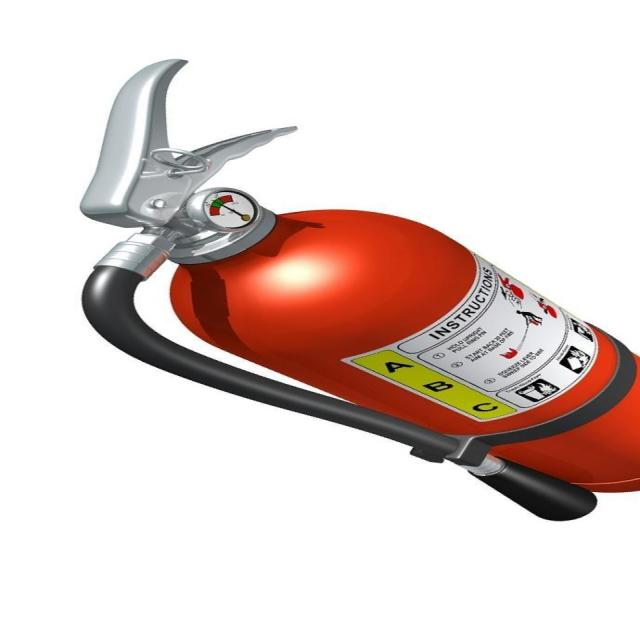fire_extinguisher: (59, 45, 639, 529)
